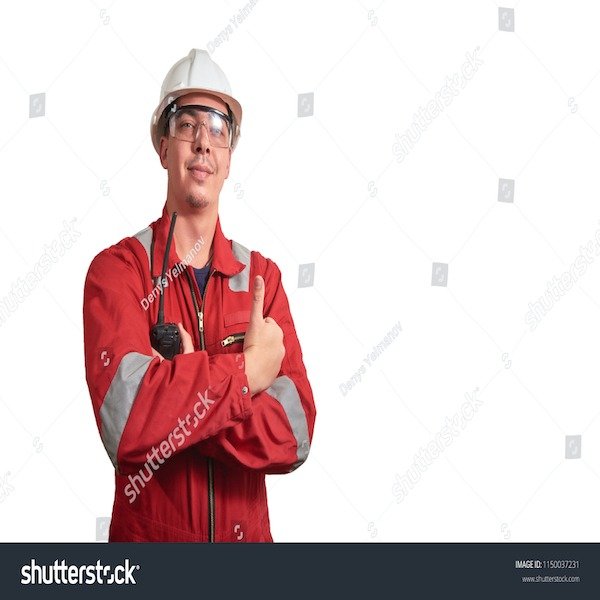helmet: (150, 48, 247, 120)
